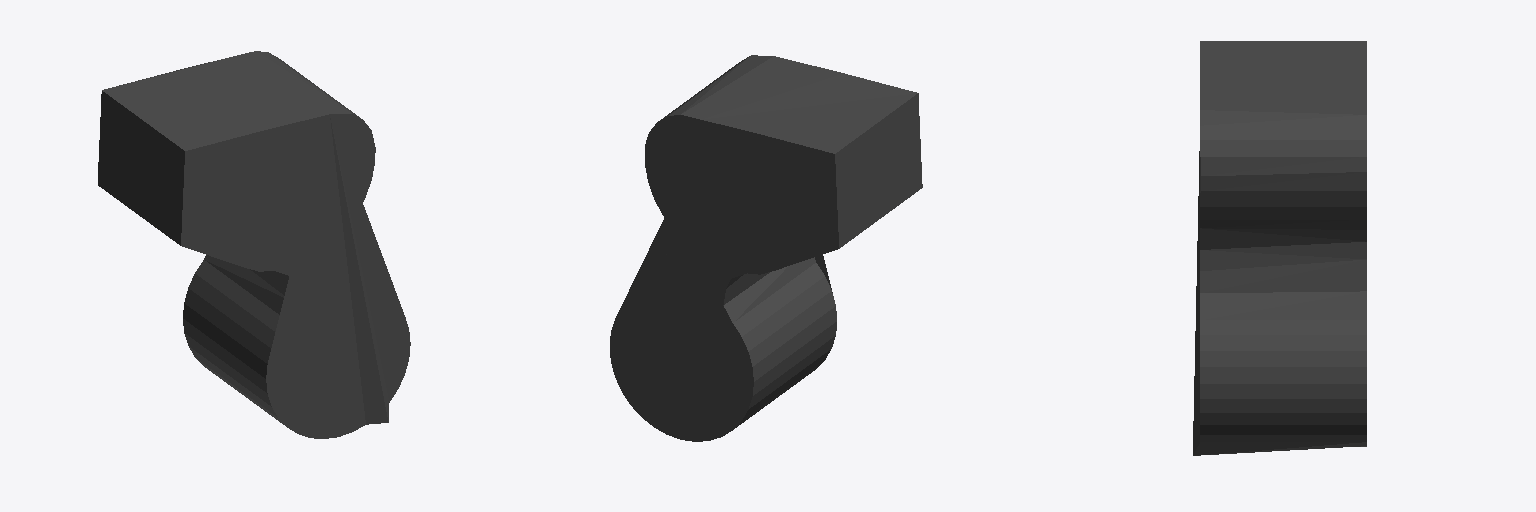
Rendered from Nao6_Left_Leg_Joint.obj.
3 views of the same model, side by side, from view 1: azimuth 30°, elevation 25°; view 2: azimuth 150°, elevation 25°; view 3: azimuth 270°, elevation 25° (orthographic).
Visible parts, largest first — view 1: Nao6_Left_Leg_Joint; view 2: Nao6_Left_Leg_Joint; view 3: Nao6_Left_Leg_Joint.
Part boxes in pixels (left/top/right/bottom): Nao6_Left_Leg_Joint: left=98, top=51, right=410, bottom=438; Nao6_Left_Leg_Joint: left=610, top=55, right=922, bottom=441; Nao6_Left_Leg_Joint: left=1193, top=41, right=1366, bottom=455.
Size of the model in its own units: 0.3036 by 0.4104 by 0.1998.